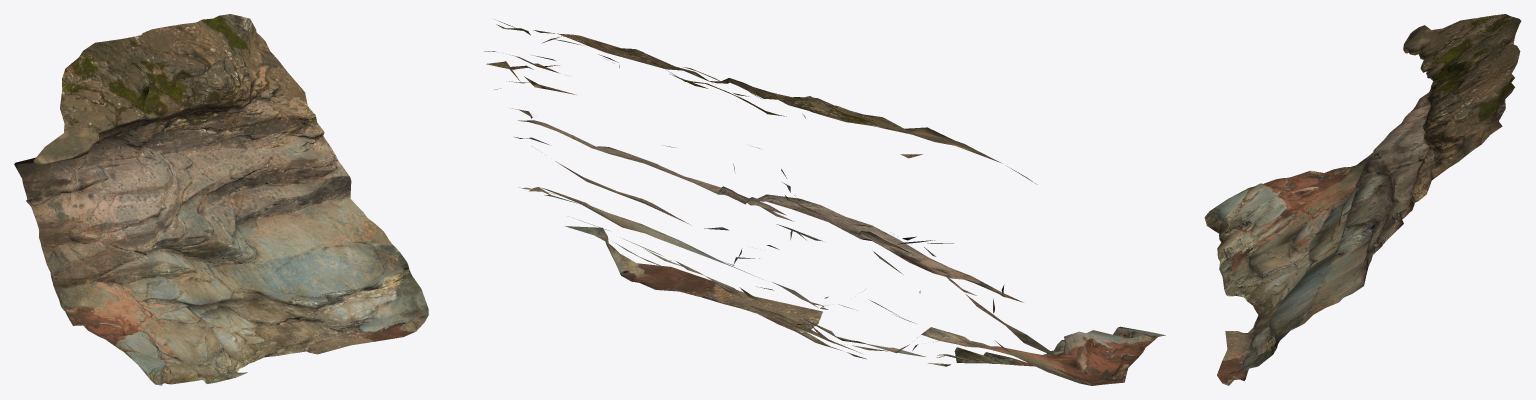
3 views of the same model, side by side, from view 1: azimuth 30°, elevation 25°; view 2: azimuth 150°, elevation 25°; view 3: azimuth 270°, elevation 25° (orthographic). The views are drawn at different scales.
Visible parts, largest first — view 1: rock_face_01_lod1; view 2: rock_face_01_lod1; view 3: rock_face_01_lod1.
Part boxes in pixels (left/top/right/bottom): rock_face_01_lod1: left=14, top=14, right=428, bottom=385; rock_face_01_lod1: left=484, top=19, right=1165, bottom=385; rock_face_01_lod1: left=1204, top=14, right=1521, bottom=385.
Bounding box in the file's own units: 4.93 × 3.56 × 3.82.
1 material, 1 textured.
